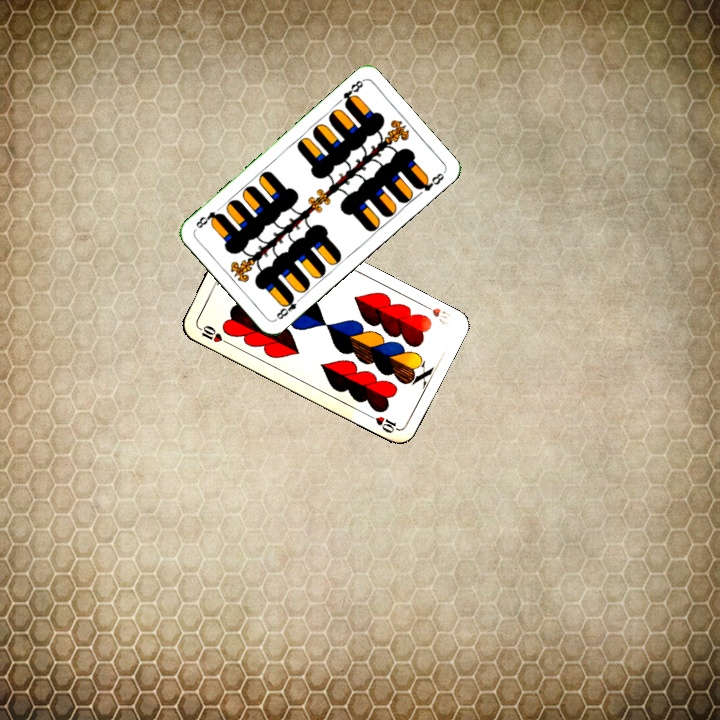E8: (271, 292, 305, 323), (339, 76, 366, 109)
H10: (418, 299, 455, 328), (193, 321, 231, 347)
